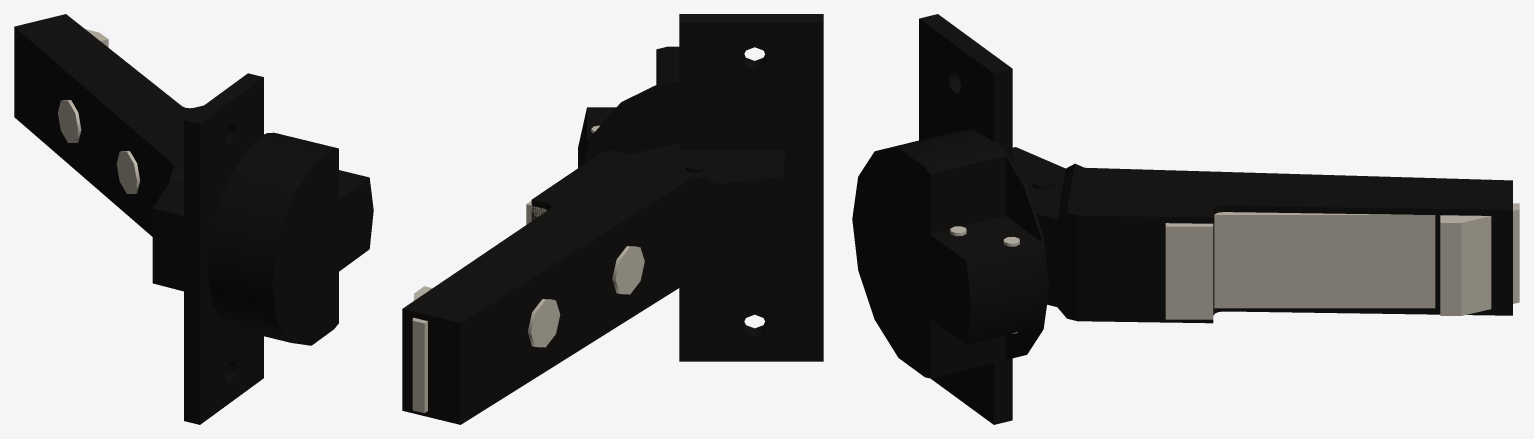
The picture shows the model from 3 angles, left to right: view 1: azimuth 30°, elevation 25°; view 2: azimuth 150°, elevation 25°; view 3: azimuth 270°, elevation 25°; orthographic projection. The views are drawn at different scales.
Visible parts, largest first — view 1: bau0015166285-1, bau0017003582-1; view 2: bau0017003582-1, bau0015166285-1, bau0019426112-1; view 3: bau0015166285-1, bau0017003582-1, bau0019426112-1.
Part boxes in pixels (x1,y1,x2,y2): bau0015166285-1: [184, 73, 373, 424]; bau0017003582-1: [14, 14, 203, 291]; bau0017003582-1: [402, 143, 785, 424]; bau0015166285-1: [578, 14, 823, 361]; bau0019426112-1: [412, 188, 548, 413]; bau0015166285-1: [852, 14, 1049, 424]; bau0017003582-1: [1012, 147, 1512, 323]; bau0019426112-1: [1165, 203, 1519, 319].
Size of the model in its own units: 40.44 by 57 by 98.07.
